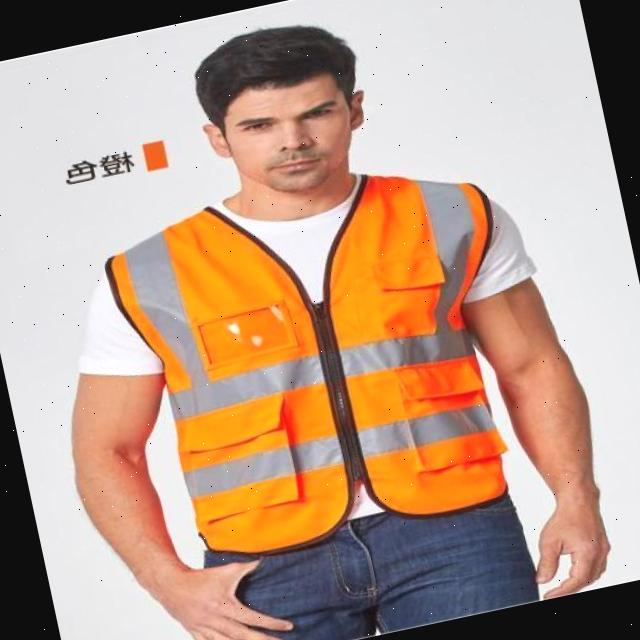vest: (94, 142, 554, 588)
